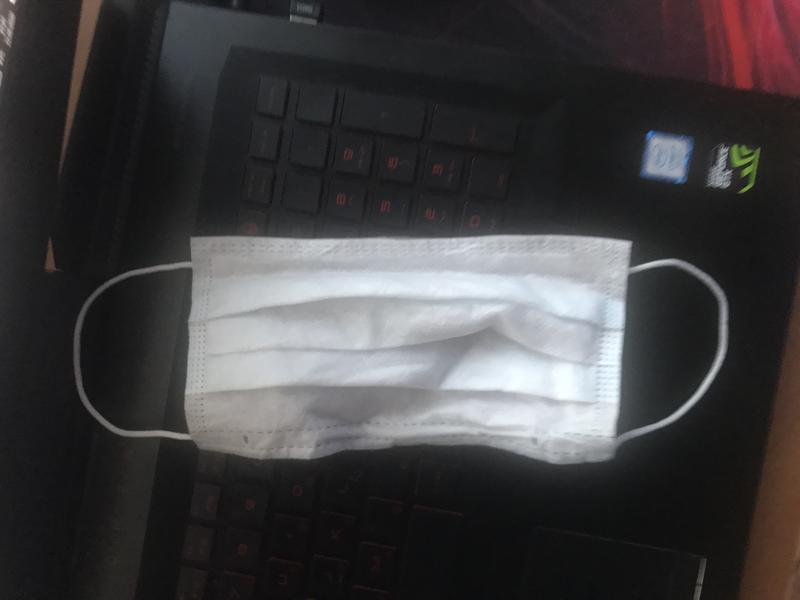medical_mask: (73, 237, 728, 466)
